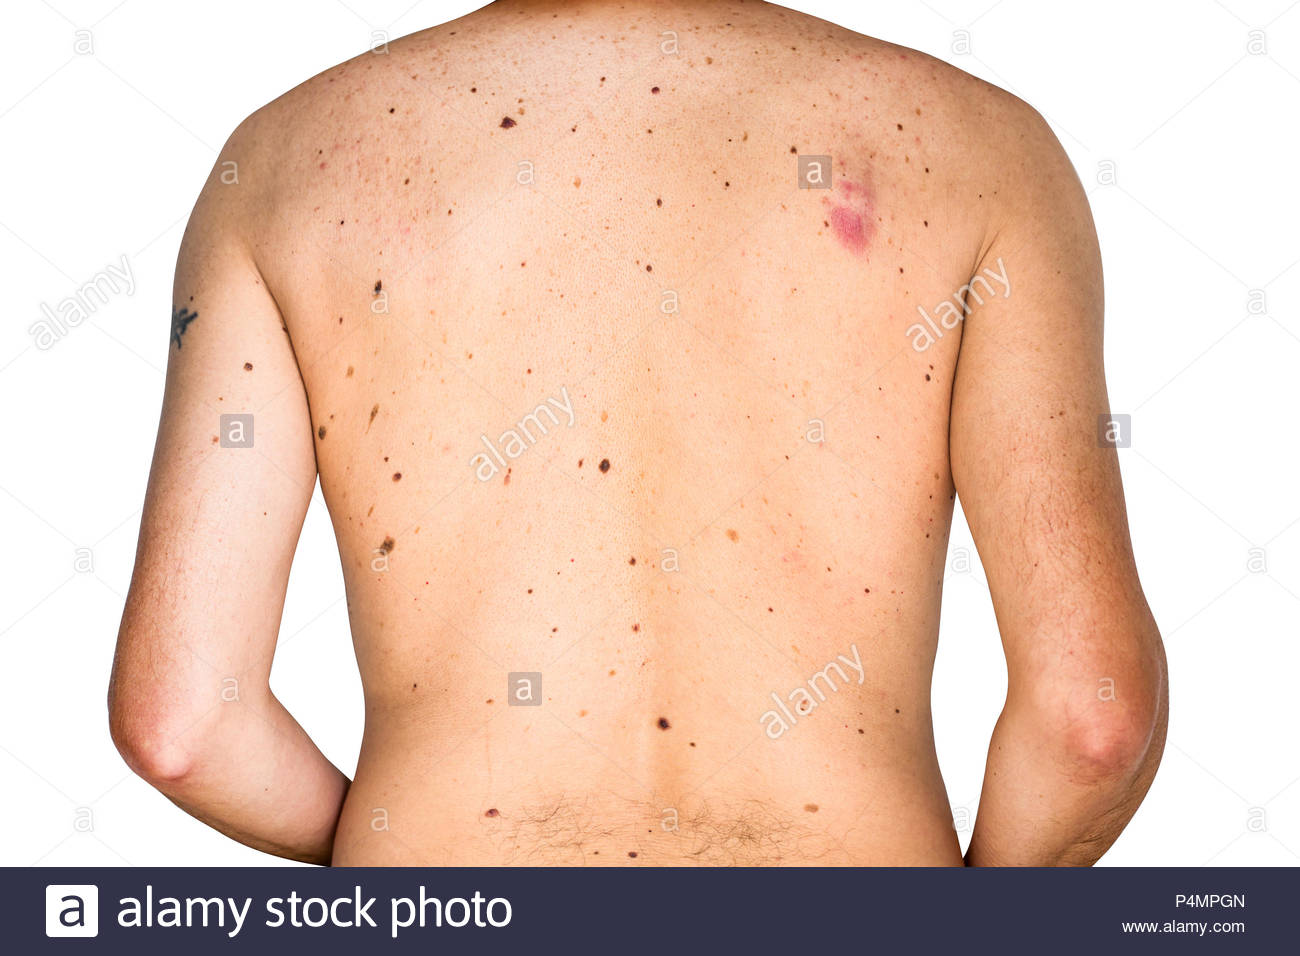melanoma: (385, 89, 858, 745)
